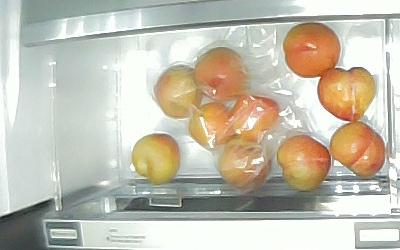prune: (283, 23, 341, 78), (318, 68, 377, 122), (276, 134, 332, 190), (331, 122, 386, 179), (132, 133, 181, 185)
prune_vinyl: (193, 47, 251, 103), (219, 139, 271, 191), (155, 64, 203, 119), (230, 96, 280, 141), (189, 104, 234, 149)
